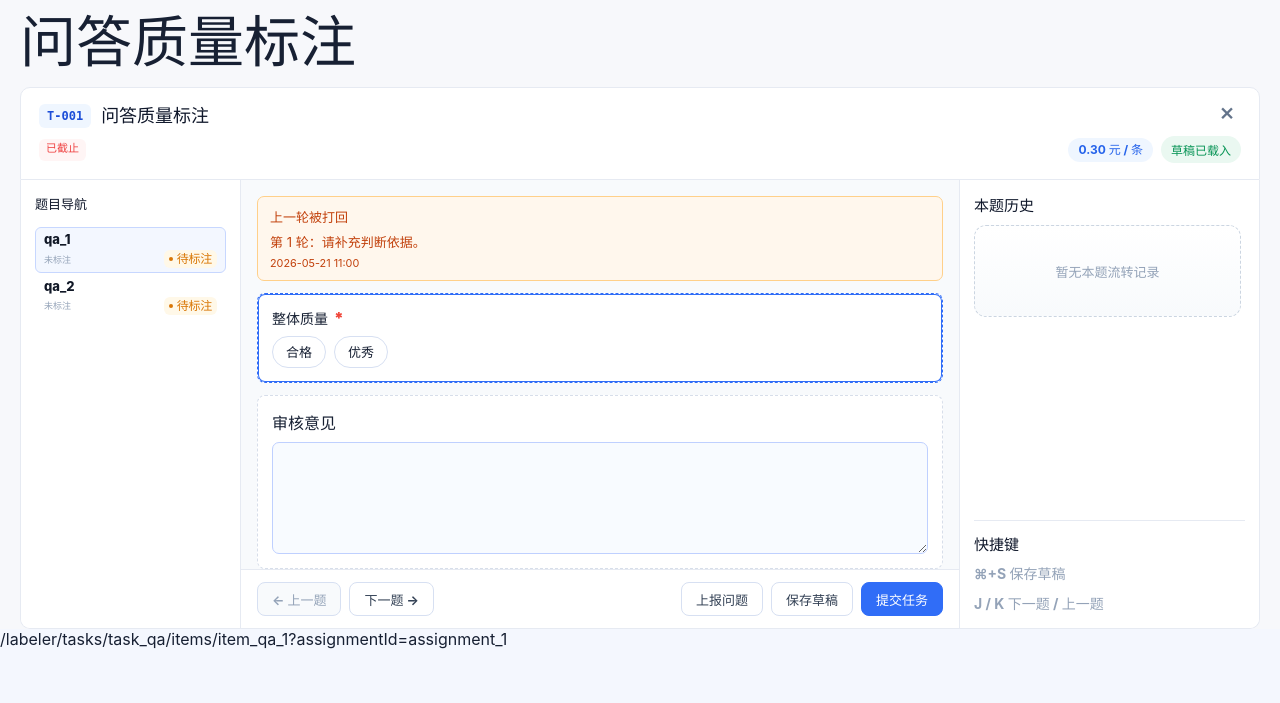
WorkbenchPage › 题目上报弹窗确认按钮可点击并在提交时校验问题说明
The image size is (1280, 703).
Expected: the heading "问答质量标注" is shown, top-left (20, 8), bottom-right (356, 76)
Click the button "上报问题": (722, 599) top-left (681, 582), bottom-right (763, 616)
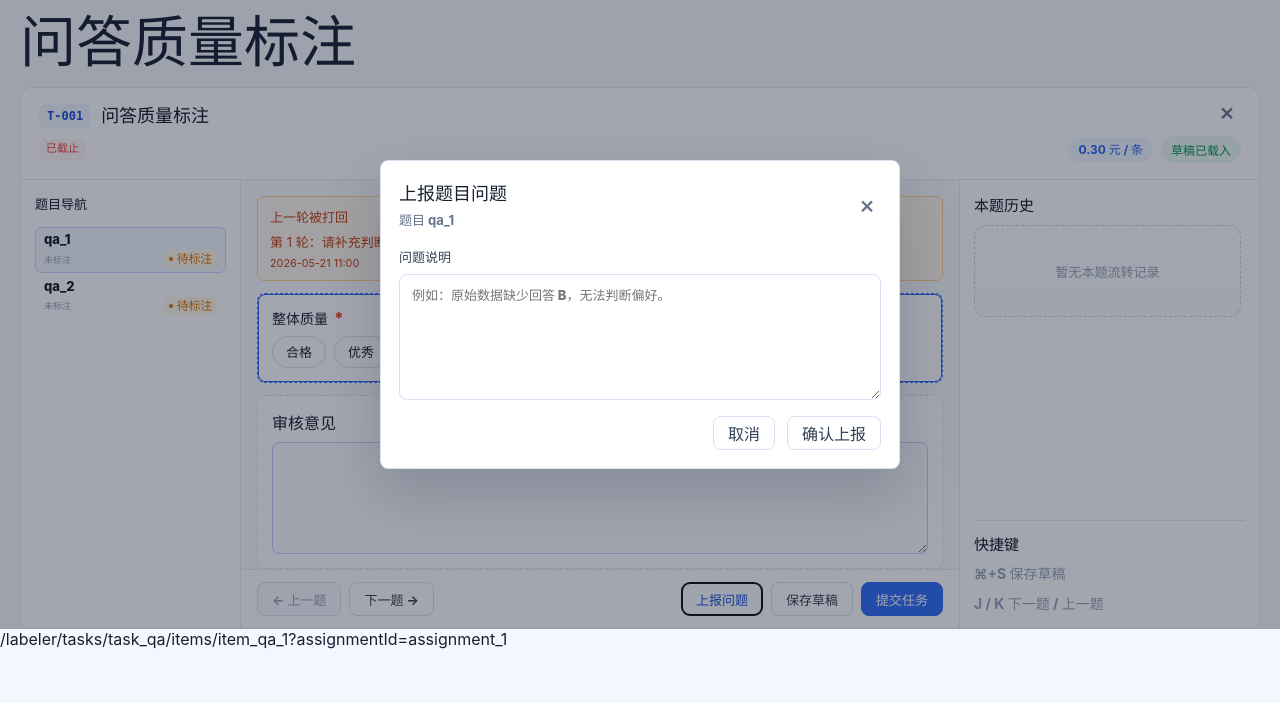
Expected: the text "×" is shown, top-left (859, 193), bottom-right (875, 217)
Expected: the button "确认上报" is enabled
Click the button "确认上报": (834, 433) top-left (787, 416), bottom-right (881, 450)
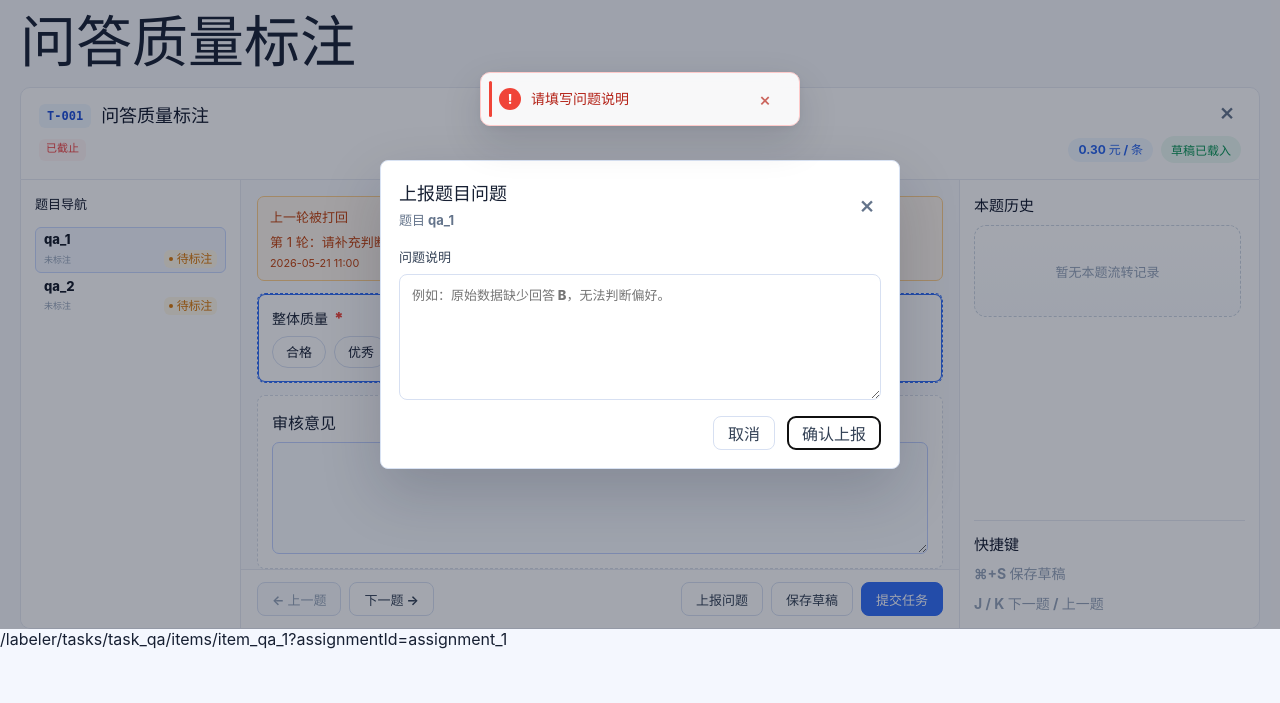
Expected: the message shows "请填写问题说明", top-left (531, 90), bottom-right (629, 107)
In the text box labelled "问题说明": (640, 337) top-left (399, 274), bottom-right (881, 400), type "坏题"
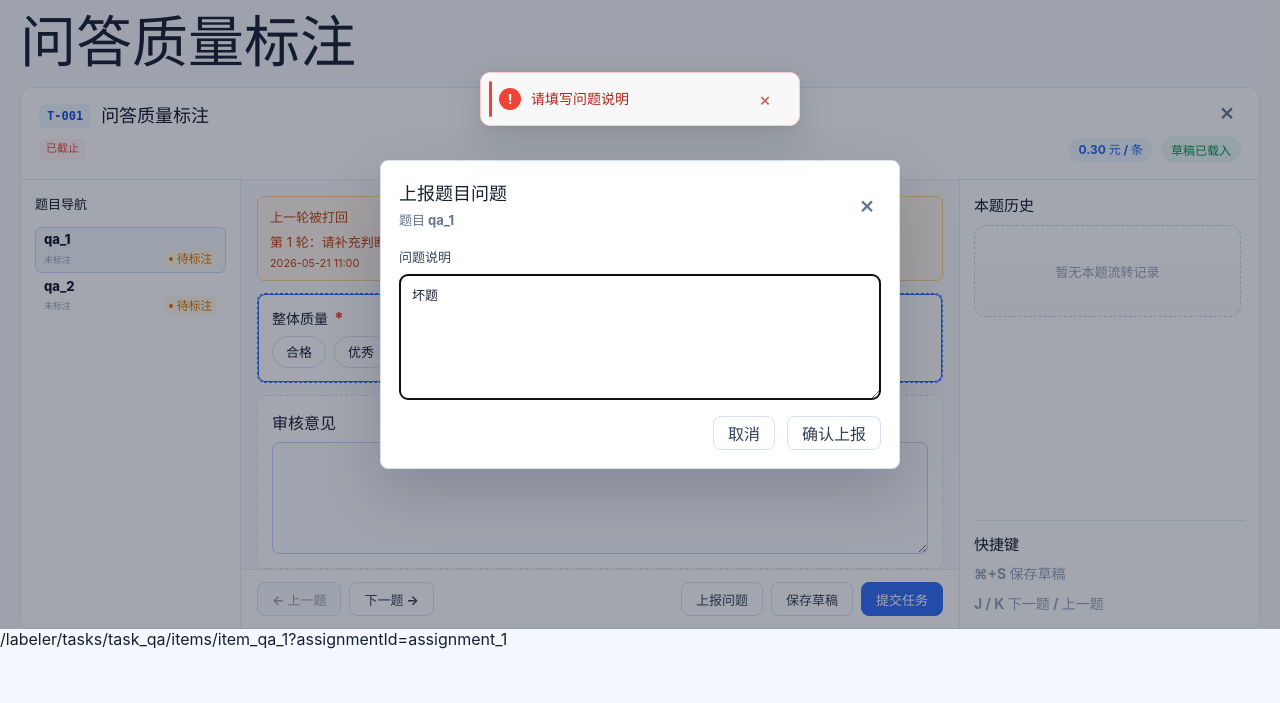
Click the button "确认上报": (834, 433) top-left (787, 416), bottom-right (881, 450)
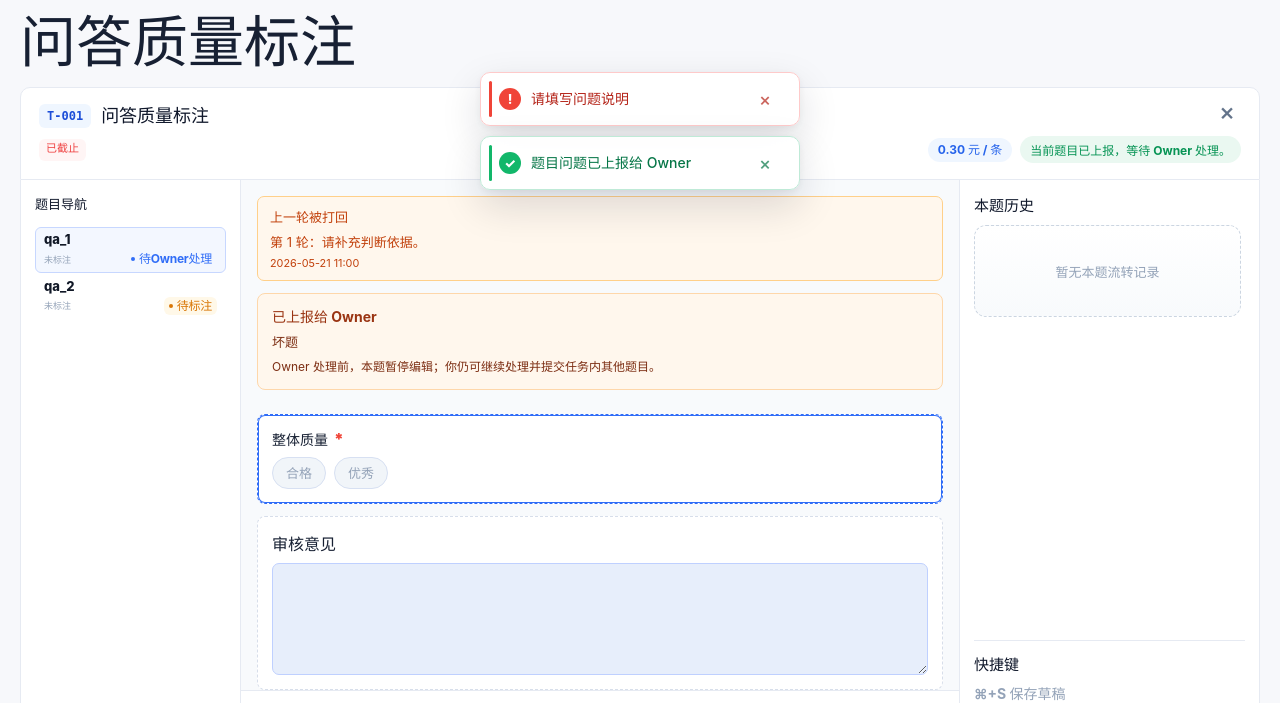
Expected: the text "题目问题已上报给 Owner" is shown, top-left (531, 154), bottom-right (691, 171)
